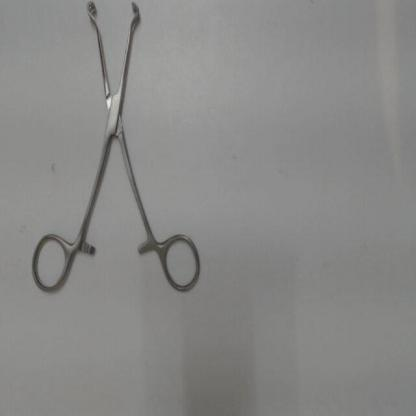Babcock Tissue Forceps: (28, 0, 208, 303)
